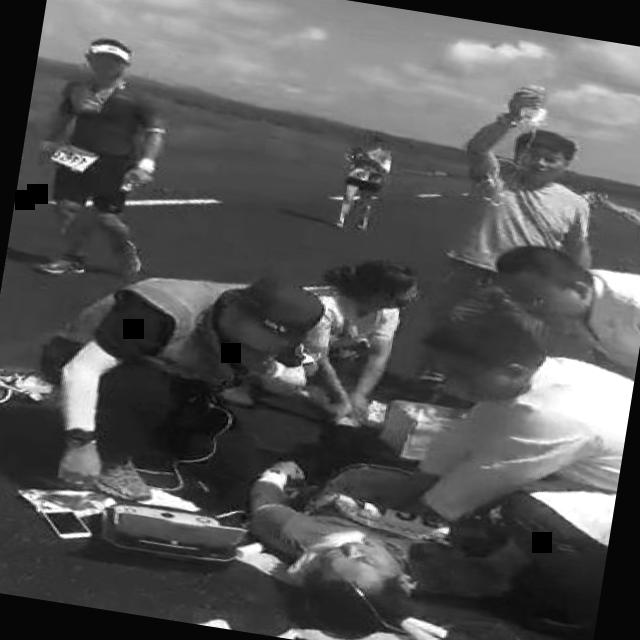Fall-Detected: (220, 385, 531, 640)
